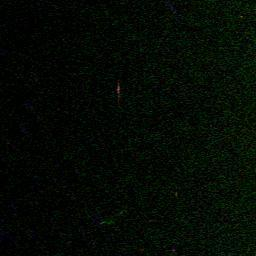Ship: (110, 79, 123, 98)
